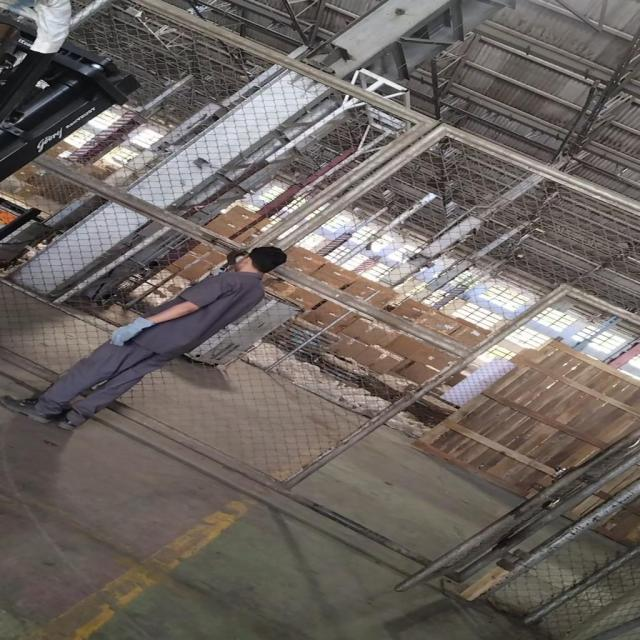Gloves-Detection: (103, 311, 151, 354)
